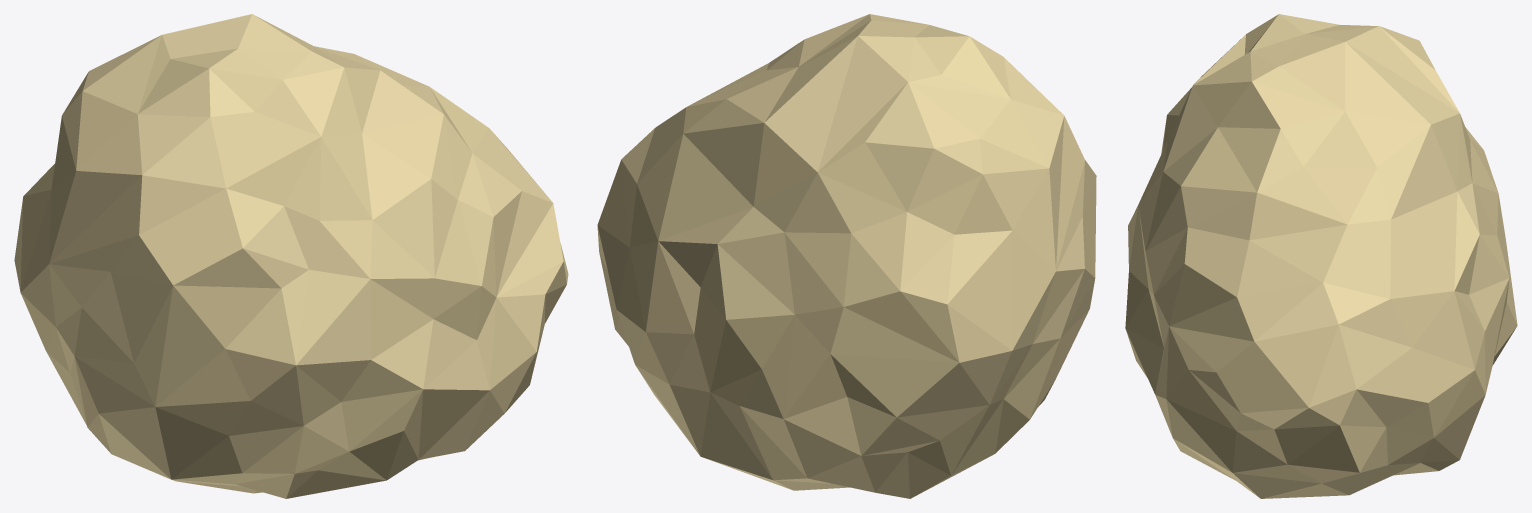
File: Asteroid (119).fbx
3 views of the same model, side by side, from view 1: azimuth 30°, elevation 25°; view 2: azimuth 150°, elevation 25°; view 3: azimuth 270°, elevation 25° (orthographic). The views are drawn at different scales.
Parts seen in each view (by area): view 1: Asteroid176; view 2: Asteroid176; view 3: Asteroid176.
Boxes of the visible parts, x1,y1,x2,y2 form: Asteroid176: (14,14,568,498); Asteroid176: (597,14,1096,498); Asteroid176: (1125,14,1517,498).
Bounding box in the file's own units: 447 × 411 × 347.
